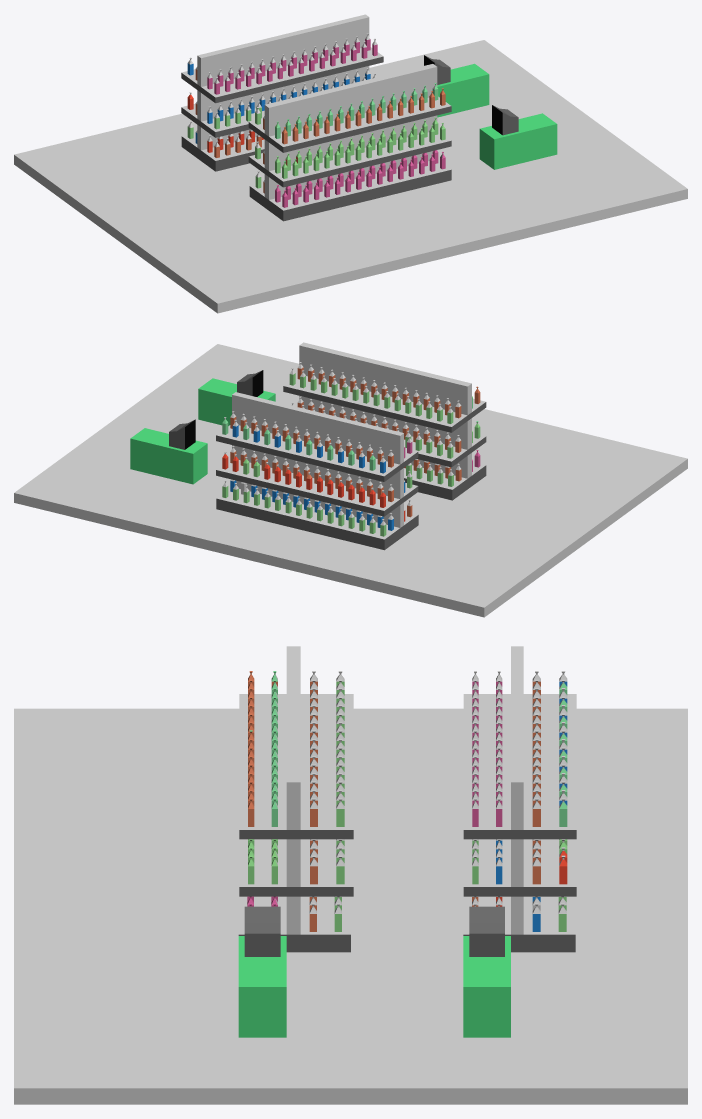
File: juice area.fbx
The picture shows the model from 3 angles, top to bottom: view 1: azimuth 30°, elevation 25°; view 2: azimuth 150°, elevation 25°; view 3: azimuth 270°, elevation 25°; orthographic projection. The views are drawn at different scales.
Visible parts, largest first — view 1: cold drink shop; view 2: cold drink shop; view 3: cold drink shop.
Part boxes in pixels (x1,y1,x2,y2): cold drink shop: (14,14,687,313); cold drink shop: (14,342,687,617); cold drink shop: (14,646,687,1104).
Size of the model in its own units: 1000 by 229 by 750.
